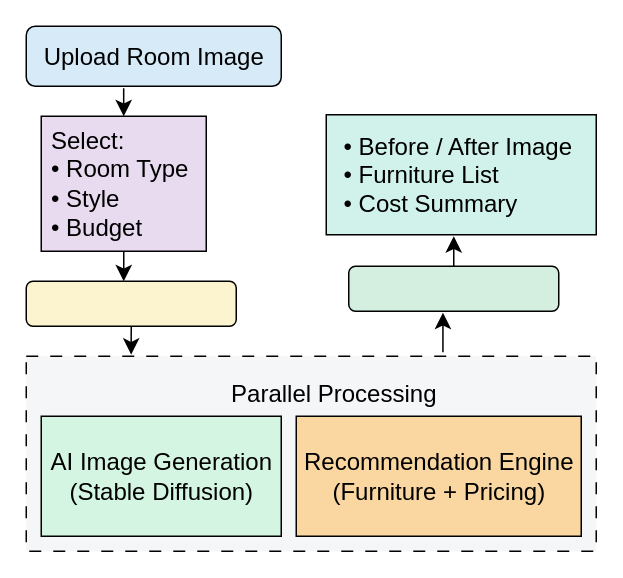
The diagram is 623 pixels wide and 578 high, and some of its shapes have lost their labels. The centre of each missing label's shape, as x and y in pixels:
"Generate Design" belongs at (x=130, y=303).
"Result Dashboard" belongs at (x=453, y=288).
